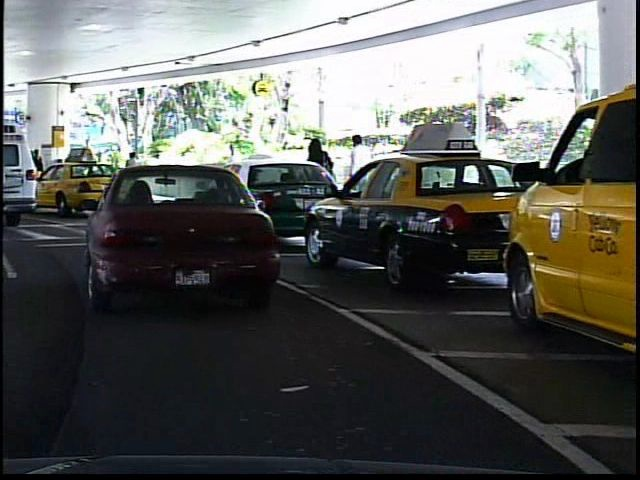person: (300, 134, 334, 230), (341, 129, 373, 224), (219, 138, 247, 205), (117, 146, 143, 198)
